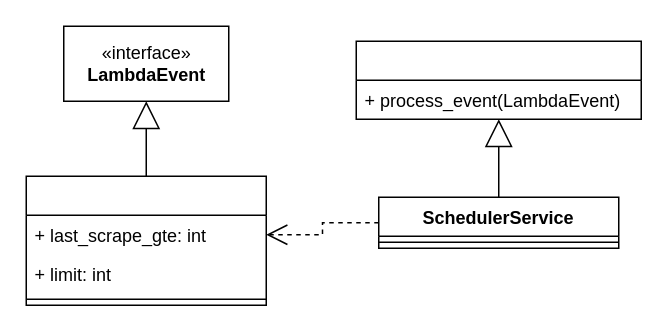
Some shapes in this 668 by 332 pixel diagram are drawn without their labels. The box of each missing label's shape, as (x1, y1, x2, y2) in pixels:
BaseService: (355, 40, 641, 119)
SchedulerEvent: (25, 175, 266, 305)
